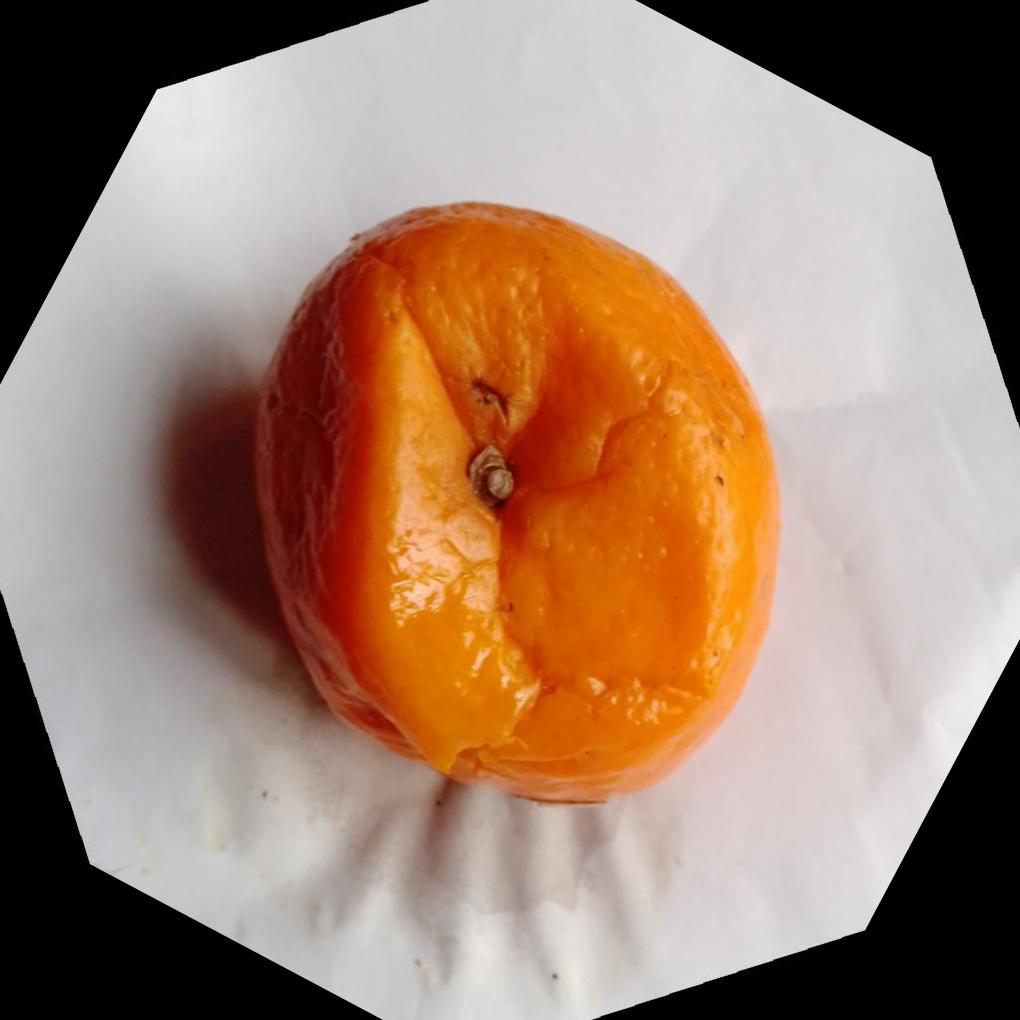FreshOrange: (250, 200, 787, 809)
